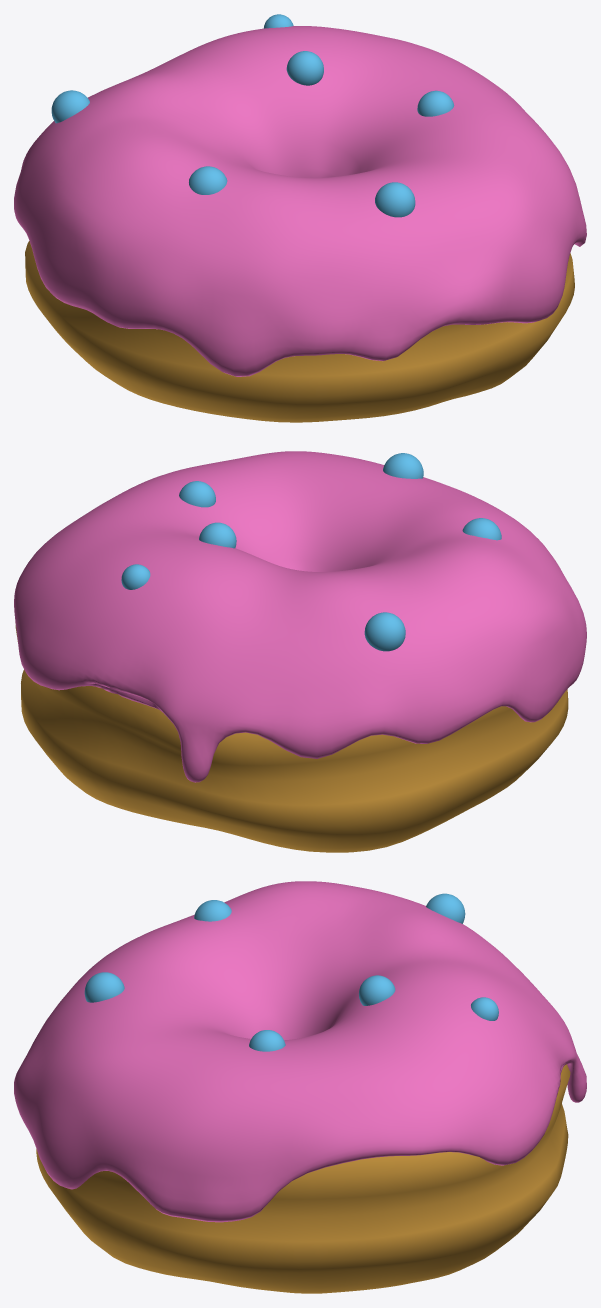
Rendered from Donut.glb.
3 renders of one model, top to bottom at view 1: azimuth 30°, elevation 25°; view 2: azimuth 150°, elevation 25°; view 3: azimuth 270°, elevation 25°, orthographic.
Parts seen in each view (by area): view 1: Icing, Donut, Sphere.006, Sphere.004, Sphere.005, Sphere.002, Sphere.003; view 2: Icing, Donut, Sphere.002, Sphere.006, Sphere.003, Sphere.004, Sphere.005, Sphere.001; view 3: Icing, Donut, Sphere.006, Sphere.004, Sphere.002, Sphere.005, Sphere.003.
Part boxes in pixels (x1,y1,x2,y2): Icing: [14, 26, 586, 376]; Donut: [25, 241, 574, 422]; Sphere.006: [375, 182, 415, 217]; Sphere.004: [286, 51, 323, 85]; Sphere.005: [189, 166, 227, 194]; Sphere.002: [51, 90, 89, 123]; Sphere.003: [417, 90, 454, 116]; Icing: [14, 451, 586, 782]; Donut: [15, 625, 568, 852]; Sphere.002: [364, 612, 405, 651]; Sphere.006: [383, 453, 423, 478]; Sphere.003: [179, 481, 215, 507]; Sphere.004: [199, 522, 236, 548]; Sphere.005: [462, 518, 501, 540]; Sphere.001: [121, 564, 150, 589]; Icing: [14, 881, 586, 1222]; Donut: [36, 1064, 570, 1293]; Sphere.006: [84, 972, 124, 1002]; Sphere.004: [358, 975, 395, 1005]; Sphere.002: [426, 893, 465, 923]; Sphere.005: [194, 900, 231, 921]; Sphere.003: [249, 1030, 285, 1051].
Bounding box in the file's own units: 0.0979 × 0.0508 × 0.1001.
Materials: 3 (1 with a texture image).
